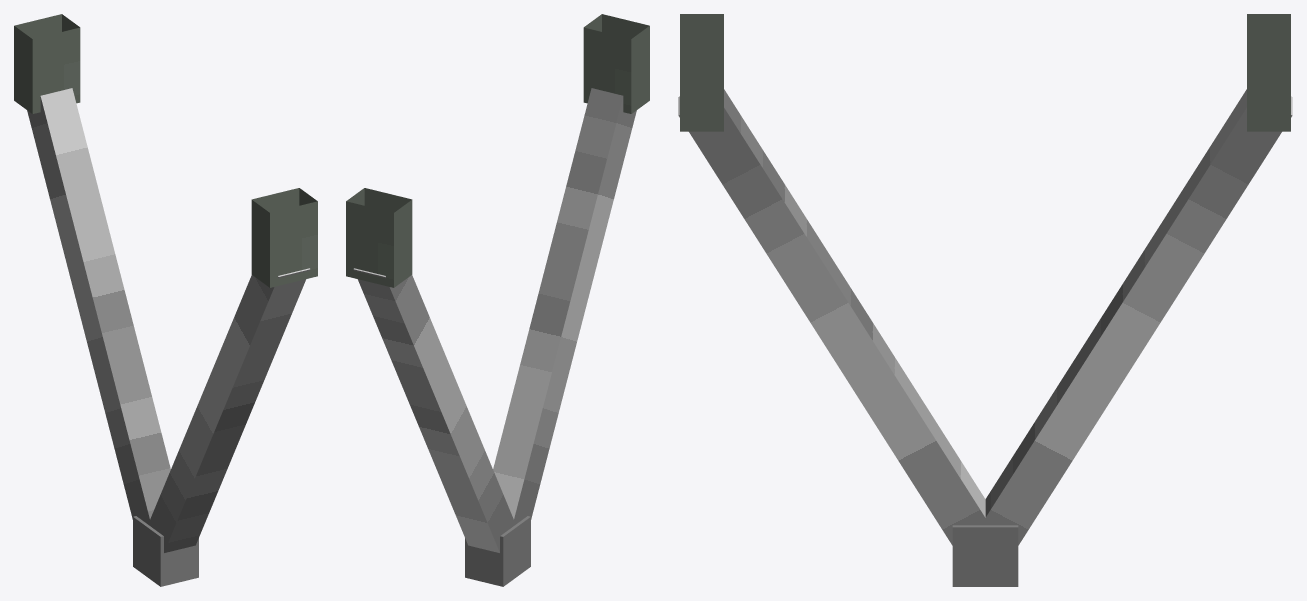
File: v_insulator.obj
3 renders of one model, left to right at view 1: azimuth 30°, elevation 25°; view 2: azimuth 150°, elevation 25°; view 3: azimuth 270°, elevation 25°, orthographic. The views are drawn at different scales.
Parts seen in each view (by area): view 1: i_2, i_1, bracket_connection2, bracket_connection1, wire_connection; view 2: i_1, i_2, bracket_connection1, bracket_connection2, wire_connection; view 3: i_1, i_2, bracket_connection1, bracket_connection2, wire_connection.
Boxes of the visible parts, x1,y1,x2,y2 form: i_2: [27, 88, 170, 526]; i_1: [150, 268, 310, 552]; bracket_connection2: [251, 188, 317, 287]; bracket_connection1: [14, 14, 80, 113]; wire_connection: [133, 516, 198, 586]; i_1: [493, 88, 636, 526]; i_2: [353, 268, 513, 552]; bracket_connection1: [346, 188, 412, 287]; bracket_connection2: [583, 14, 649, 113]; wire_connection: [465, 516, 530, 586]; i_1: [678, 89, 989, 545]; i_2: [982, 89, 1292, 545]; bracket_connection1: [1247, 14, 1290, 131]; bracket_connection2: [680, 14, 723, 131]; wire_connection: [952, 525, 1018, 586].
Size of the model in its own units: 0.0938 by 0.8594 by 0.8729.
